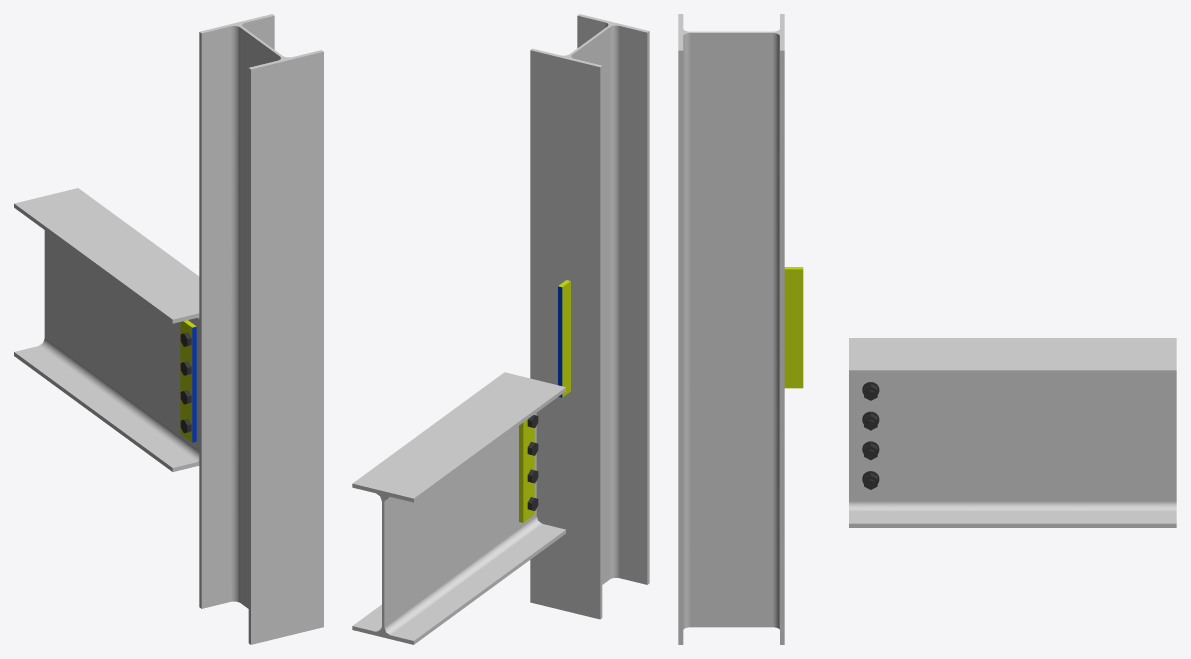
The model's file is 2-Shear Yield (plate).glb.
3 views of the same model, side by side, from view 1: azimuth 30°, elevation 25°; view 2: azimuth 150°, elevation 25°; view 3: azimuth 270°, elevation 25° (orthographic). The views are drawn at different scales.
Parts seen in each view (by area): view 1: W-Wide Flange-Column W10X33 (1) [1245414], W-Wide Flange W16X36 (1) [1518880], [1714885], [1714887]; view 2: W-Wide Flange-Column W10X33 (1) [1245414], W-Wide Flange W16X36 (1) [1518880], [1714933], [1714885], [1714887]; view 3: W-Wide Flange-Column W10X33 (1) [1245414], W-Wide Flange W16X36 (1) [1518880], [1714933], [1714887].
Boxes of the visible parts, left/top/right/bottom form: W-Wide Flange-Column W10X33 (1) [1245414]: left=199, top=14, right=323, bottom=644; W-Wide Flange W16X36 (1) [1518880]: left=14, top=188, right=199, bottom=471; [1714885]: left=180, top=320, right=196, bottom=442; [1714887]: left=180, top=332, right=191, bottom=433; W-Wide Flange-Column W10X33 (1) [1245414]: left=530, top=14, right=649, bottom=619; W-Wide Flange W16X36 (1) [1518880]: left=352, top=372, right=565, bottom=644; [1714933]: left=558, top=280, right=570, bottom=397; [1714885]: left=519, top=414, right=534, bottom=522; [1714887]: left=527, top=415, right=538, bottom=510; W-Wide Flange-Column W10X33 (1) [1245414]: left=678, top=14, right=784, bottom=644; W-Wide Flange W16X36 (1) [1518880]: left=849, top=338, right=1176, bottom=527; [1714933]: left=784, top=267, right=803, bottom=388; [1714887]: left=862, top=382, right=879, bottom=489.
Bounding box in the file's own units: 0.2022 × 1.52 × 1.16.
